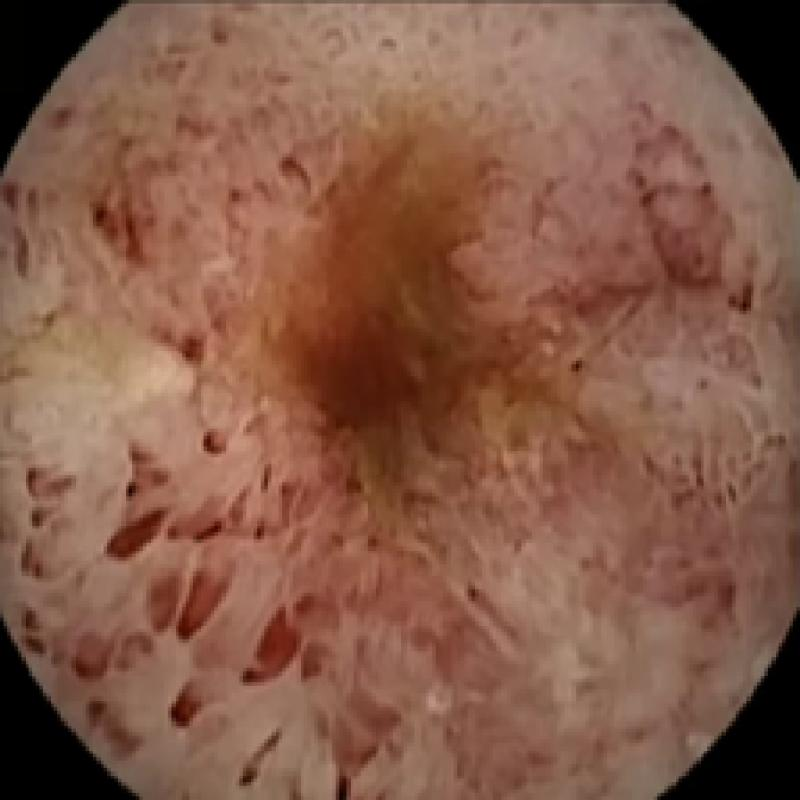bleeding: (96, 469, 389, 751), (296, 189, 575, 465)
